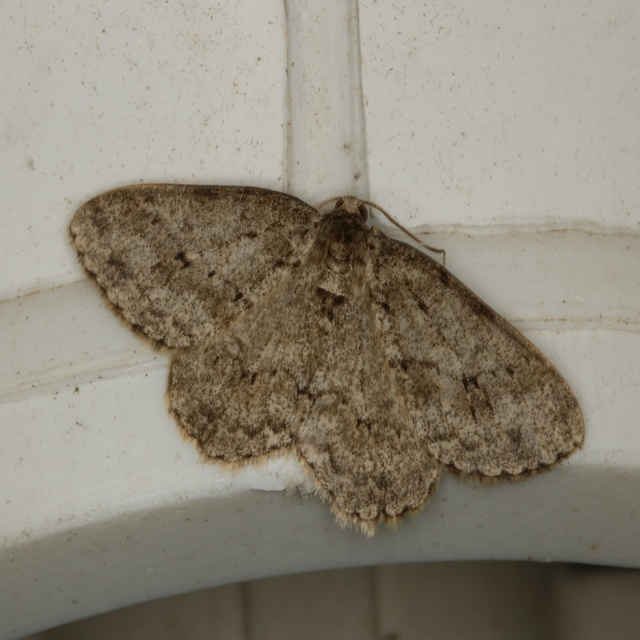Moths and butterflies: (66, 179, 584, 538)
